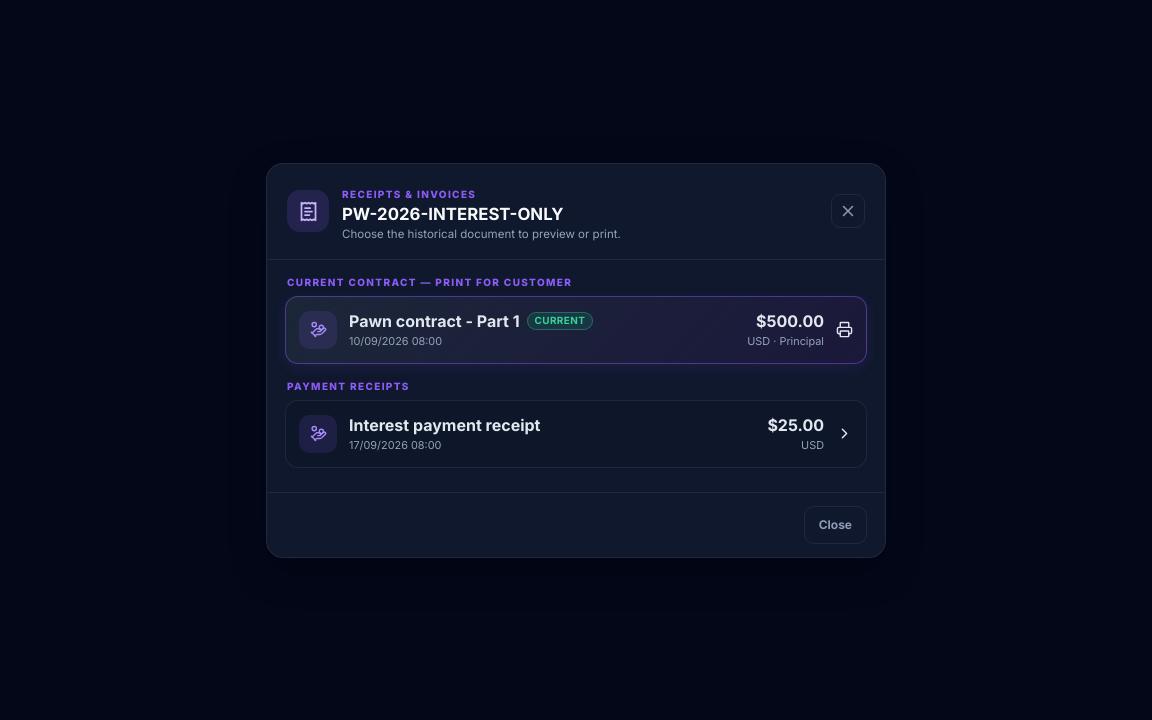
Test case: ReceiptCenterBridge component › preserves Part 1 as current contract when only interest payment is made and separates payment receipt
Expected: the dialog "PW-2026-INTEREST-ONLY" is shown, [266,162,886,558]
Expected: the text "Current contract — Print for customer" is shown, [287,276,572,288]
// Selecting the payment receipt generates the payment receipt
Click the button "Interest payment receipt 17/09/2026 08:00 $25.00 USD". click: (318, 434)
box: [285,400,867,468]
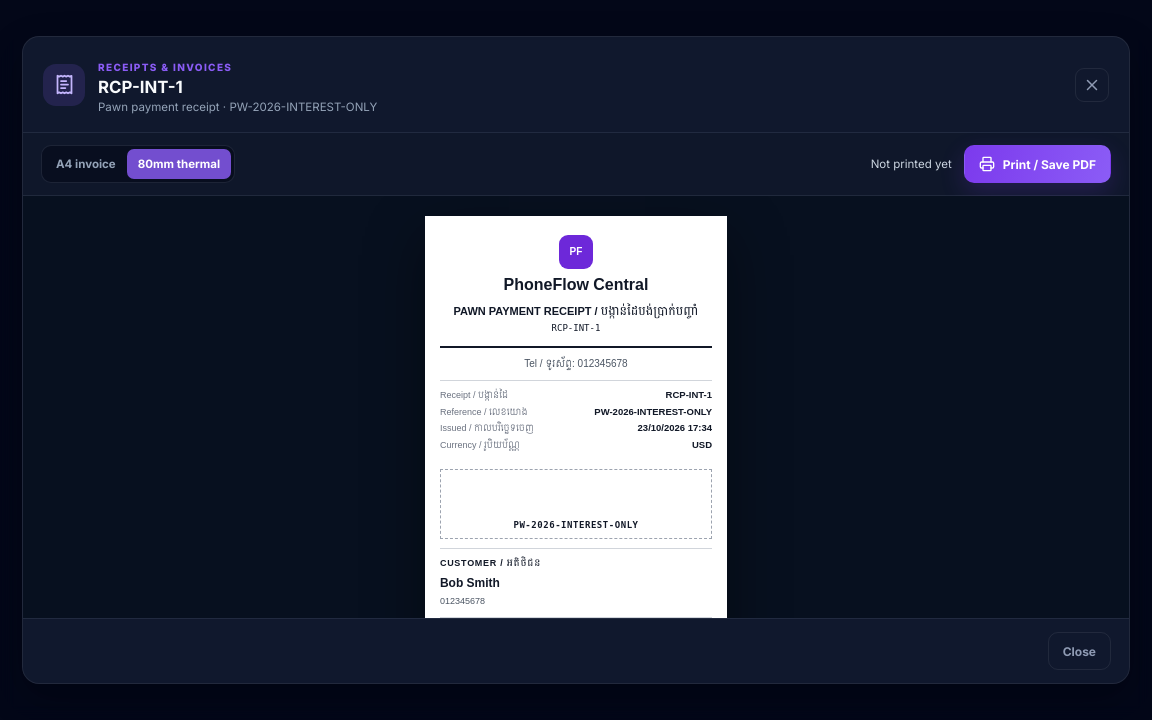
Expected: the dialog "RCP-INT-1" is shown
